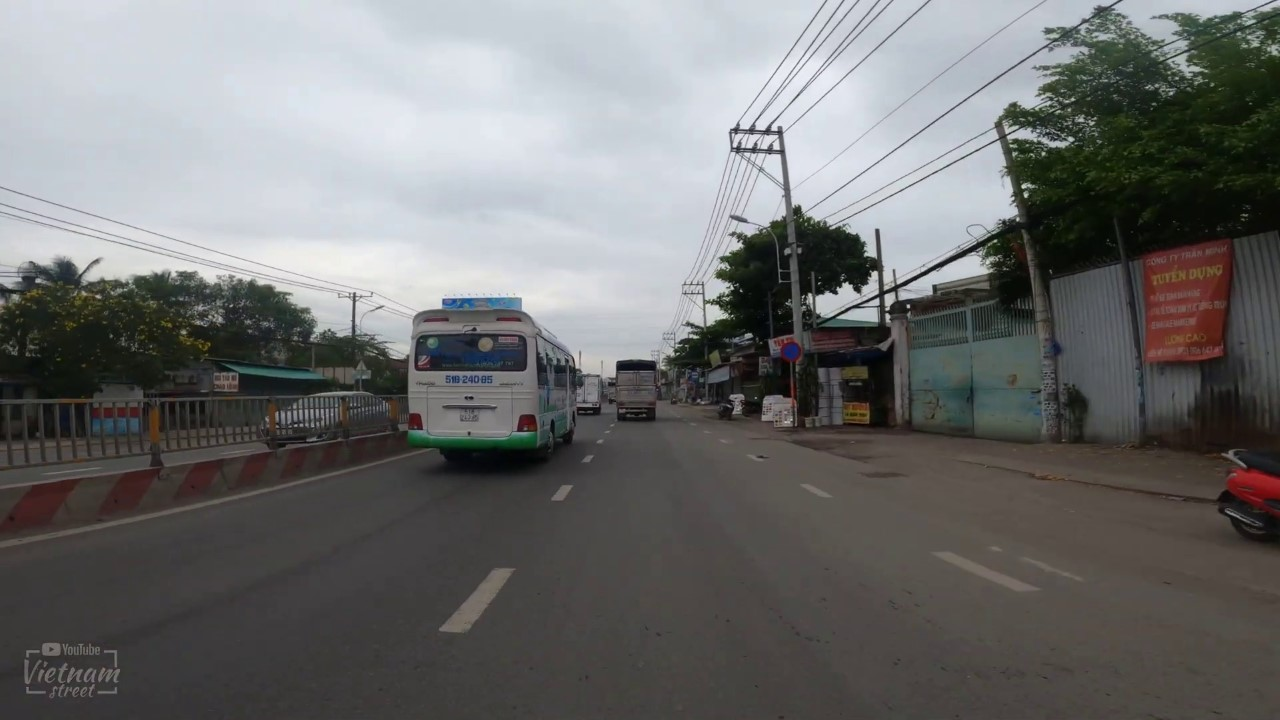cam_do_xe: (780, 341, 802, 362)
